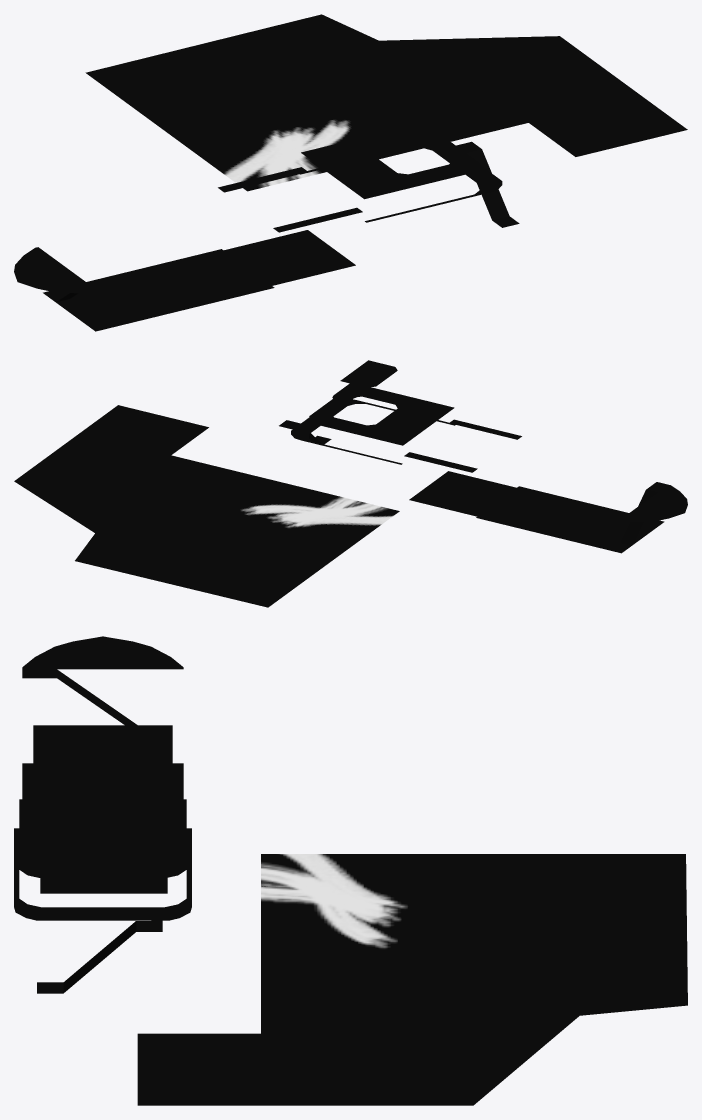
File: pollution01.dae
3 renders of one model, top to bottom at view 1: azimuth 30°, elevation 25°; view 2: azimuth 150°, elevation 25°; view 3: azimuth 270°, elevation 25°, orthographic. The views are drawn at different scales.
Visible parts, largest first — view 1: m0; view 2: m0; view 3: m0.
Boxes of the visible parts, <box> form: m0: <box>14,14,687,331</box>; m0: <box>14,360,687,607</box>; m0: <box>14,636,687,1105</box>.
Bounding box in the file's own units: 9742 × 1614 × 6344.
